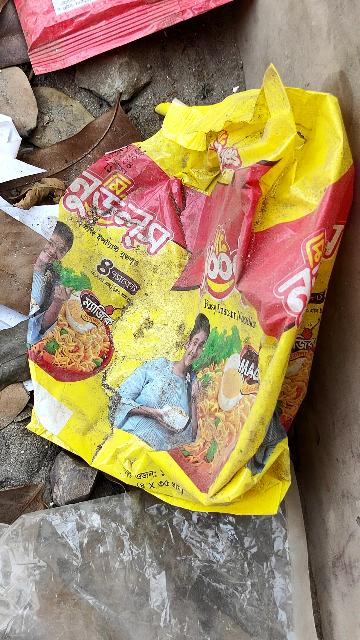packet: (49, 75, 322, 507)
